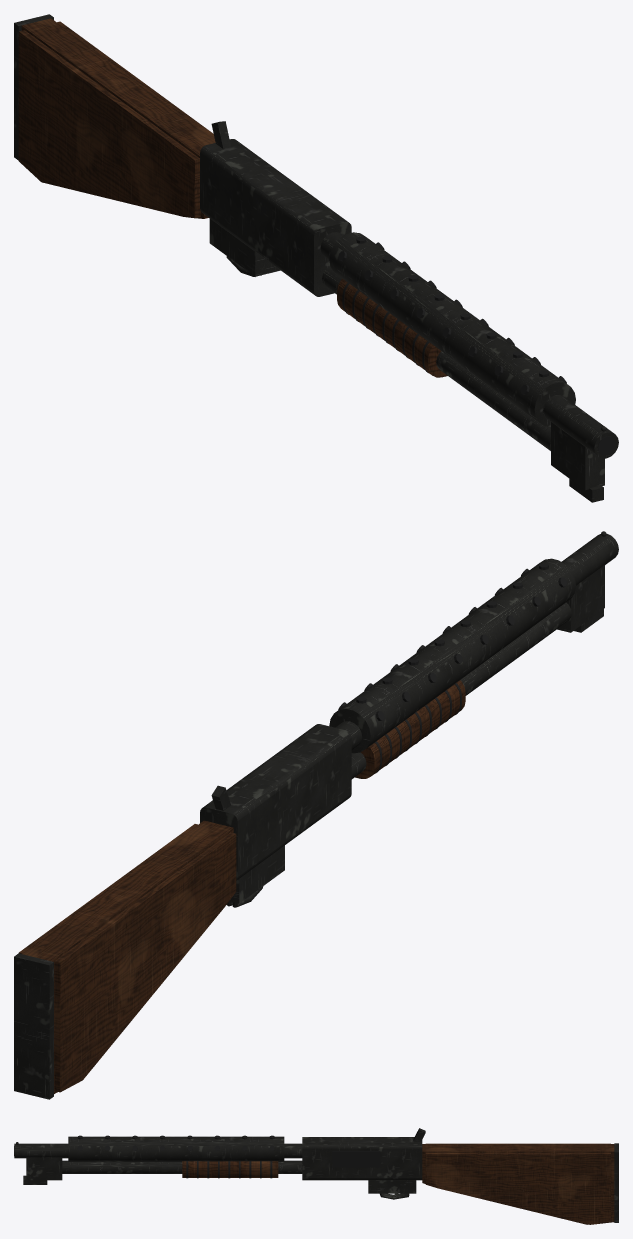
File: trenchgun.glb
3 views of the same model, one above another, from view 1: azimuth 30°, elevation 25°; view 2: azimuth 150°, elevation 25°; view 3: azimuth 270°, elevation 25° (orthographic). The views are drawn at different scales.
Visible parts, largest first — view 1: M1897_Trench_Gun; view 2: M1897_Trench_Gun; view 3: M1897_Trench_Gun.
Part boxes in pixels (x1,y1,x2,y2): M1897_Trench_Gun: [14, 14, 618, 502]; M1897_Trench_Gun: [14, 531, 618, 1099]; M1897_Trench_Gun: [14, 1128, 618, 1224].
Size of the model in its own units: 0.0447 by 0.1693 by 1.01.
Materials: 3 (2 with a texture image).
